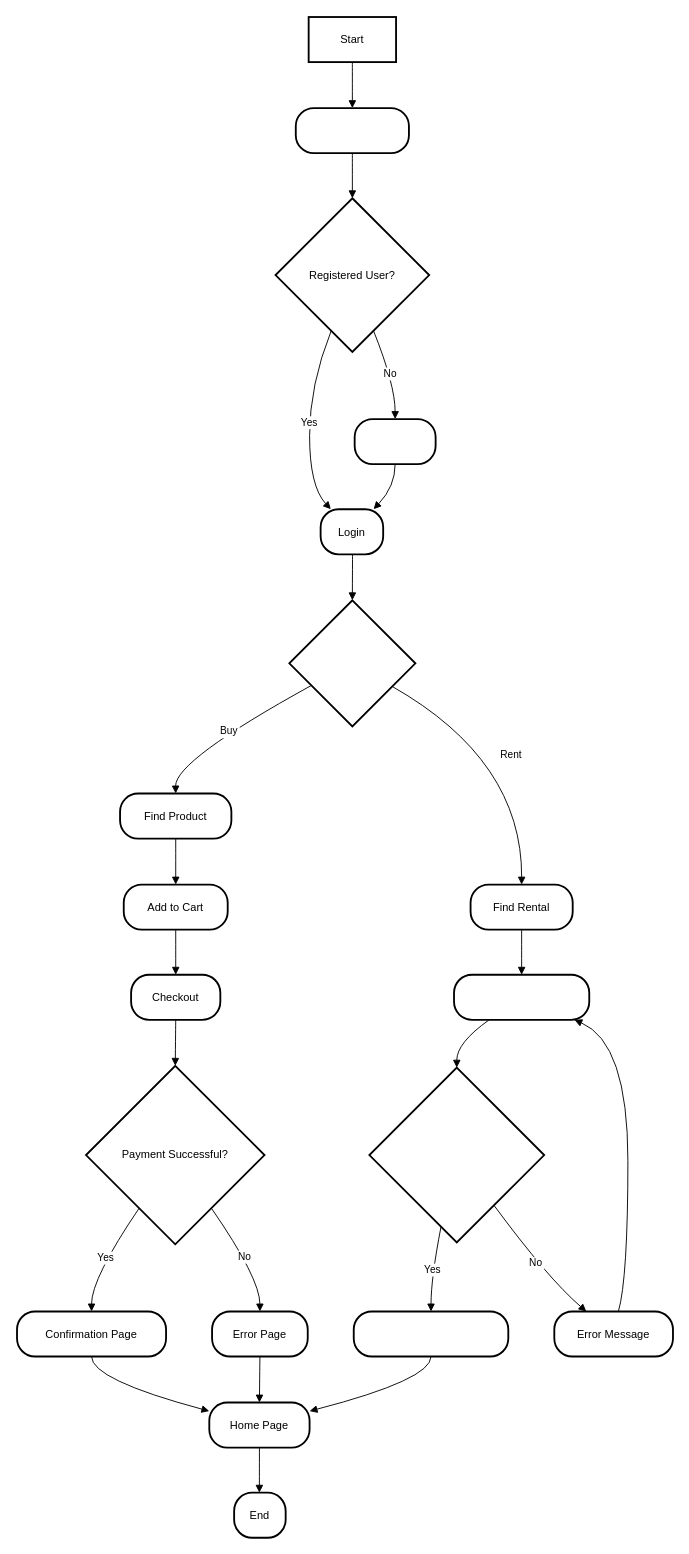
This 689x1554 diagram has some shape labels left out. Each missing label, with the centre of its shape:
Booking Confirmed?: point (456, 1154)
Buy or Rent?: point (352, 663)
Confirmation Email: point (430, 1333)
Register: point (394, 441)
Request Booking: point (521, 996)
Visit Website: point (351, 130)
